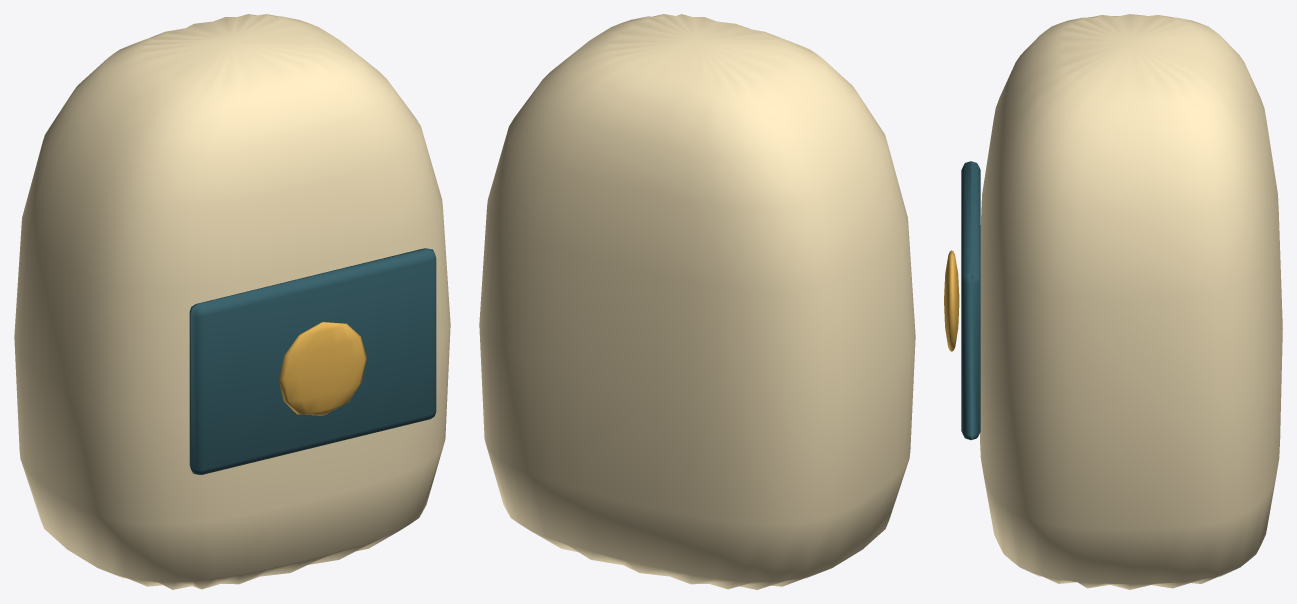
Rendered from goods_provisions.glb.
The picture shows the model from 3 angles, left to right: view 1: azimuth 30°, elevation 25°; view 2: azimuth 150°, elevation 25°; view 3: azimuth 270°, elevation 25°; orthographic projection.
Parts seen in each view (by area): view 1: goods_provisions_crafted_mesh; view 2: goods_provisions_crafted_mesh; view 3: goods_provisions_crafted_mesh.
Part boxes in pixels (box(x1,y1,x2,y2)): goods_provisions_crafted_mesh: box(14, 14, 450, 589); goods_provisions_crafted_mesh: box(479, 14, 915, 589); goods_provisions_crafted_mesh: box(944, 14, 1282, 589).
Size of the model in its own units: 0.5499 by 0.7063 by 0.4368.
